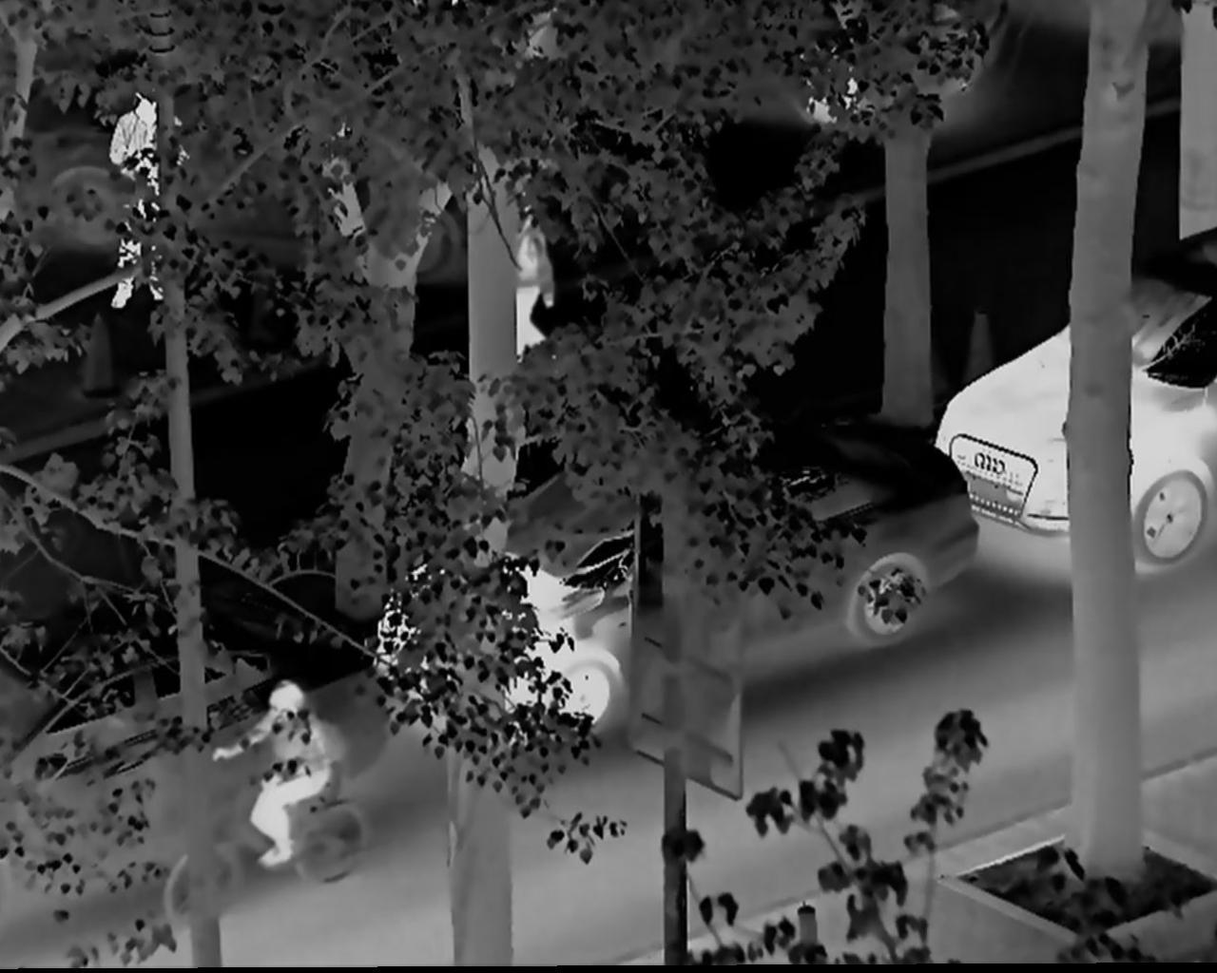person: (218, 678, 329, 884), (104, 86, 179, 300), (491, 206, 554, 392)
